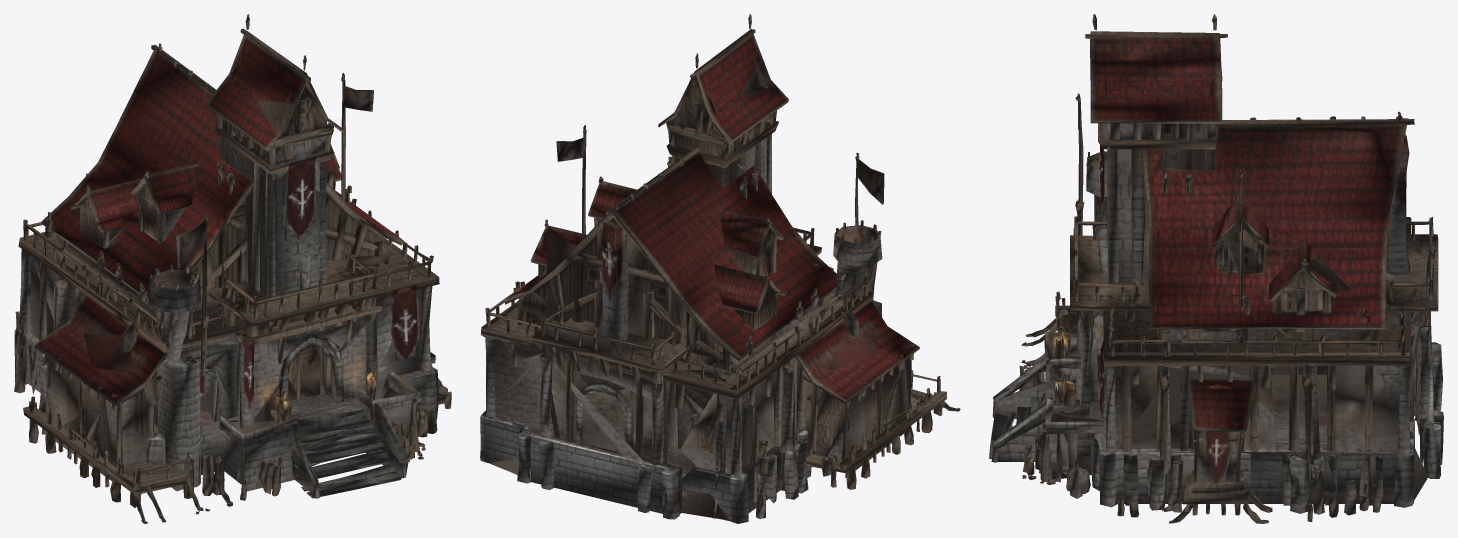
Rendered from Meshy_AI_Fortified_Medieval_To_0913015804_texture.glb.
3 renders of one model, left to right at view 1: azimuth 30°, elevation 25°; view 2: azimuth 150°, elevation 25°; view 3: azimuth 270°, elevation 25°, orthographic. The views are drawn at different scales.
Visible parts, largest first — view 1: Mesh_0; view 2: Mesh_0; view 3: Mesh_0.
Part boxes in pixels (<box>): Mesh_0: <box>14,14,451,523</box>; Mesh_0: <box>480,14,960,523</box>; Mesh_0: <box>989,14,1443,523</box>.
Size of the model in its own units: 0.1447 by 0.15 by 0.1467.
Materials: 1 (1 with a texture image).
